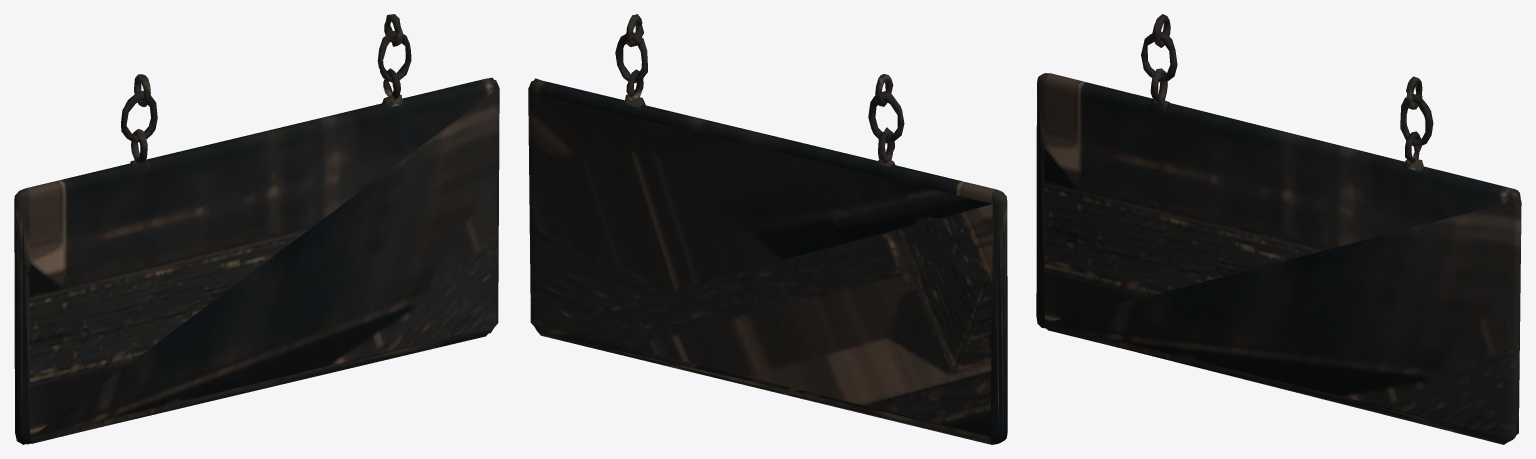
File: hospital sign6.fbx
The picture shows the model from 3 angles, left to right: view 1: azimuth 30°, elevation 25°; view 2: azimuth 150°, elevation 25°; view 3: azimuth 330°, elevation 25°; orthographic projection.
Parts seen in each view (by area): view 1: hospital sign6; view 2: hospital sign6; view 3: hospital sign6.
Boxes of the visible parts, x1,y1,x2,y2 form: hospital sign6: (14,14,499,444); hospital sign6: (528,14,1007,444); hospital sign6: (1036,14,1521,444).
Size of the model in its own units: 275 by 186 by 14.29.
